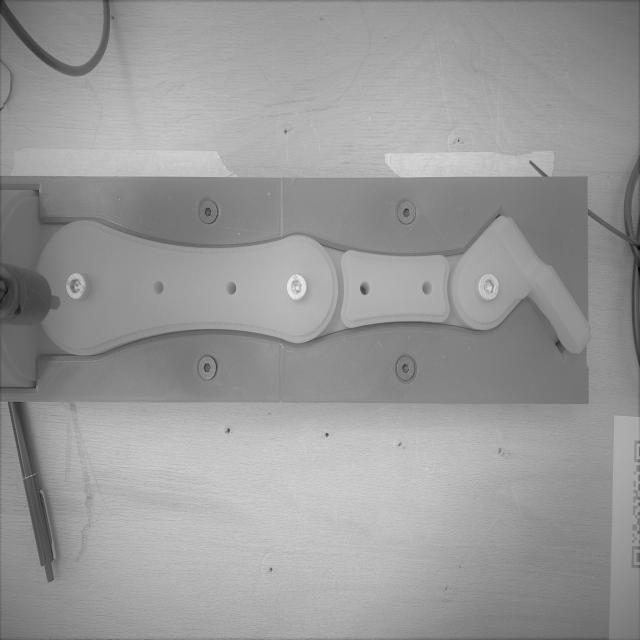HexScrew: (286, 273, 307, 302), (478, 274, 498, 301), (396, 356, 416, 382), (66, 273, 85, 300), (198, 356, 217, 380), (398, 200, 416, 225), (200, 199, 217, 225)
